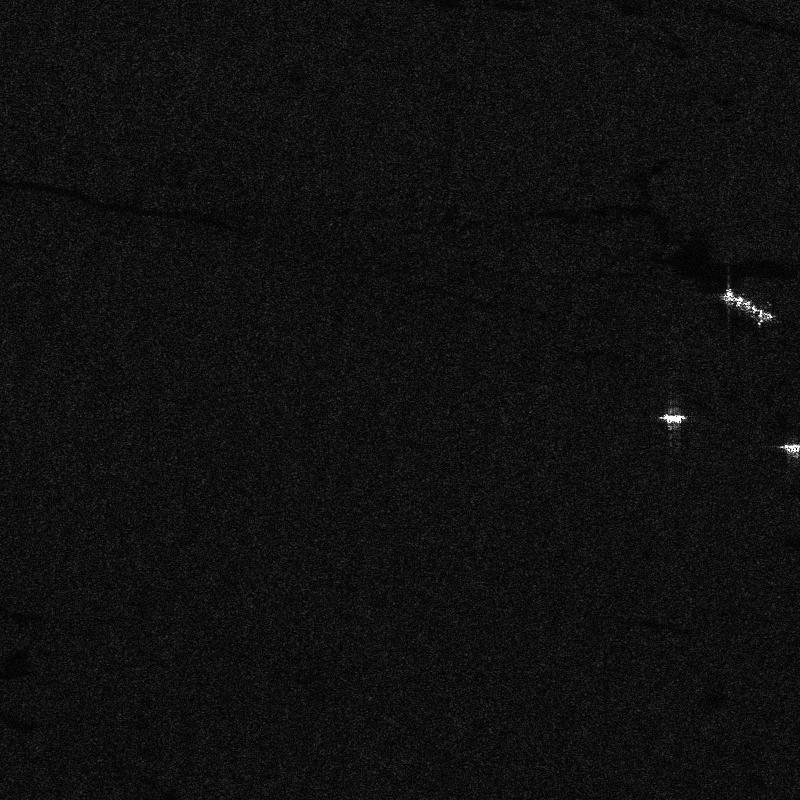ship: (722, 288, 772, 326), (658, 413, 686, 423), (778, 444, 799, 453)
